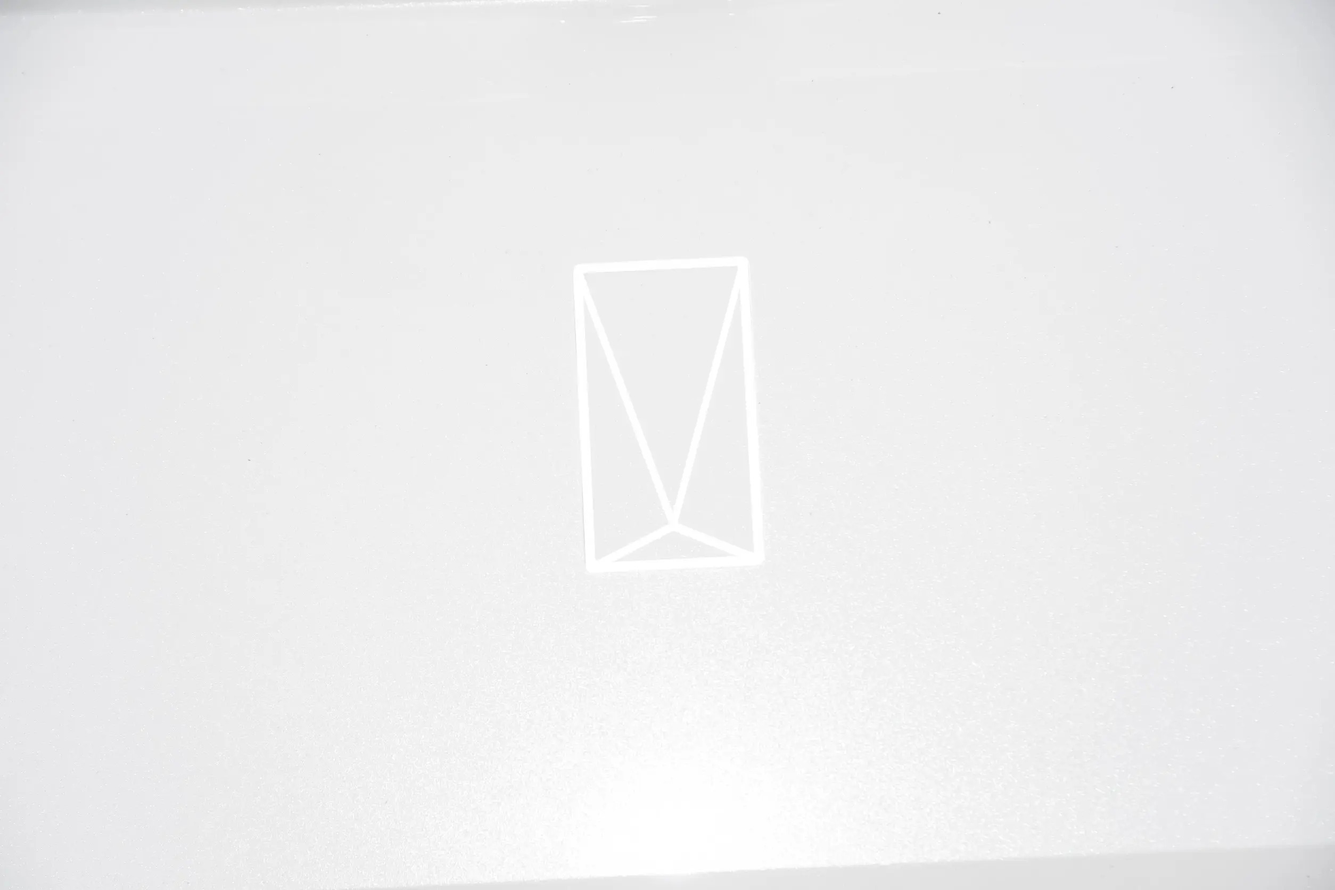AVATR: (573, 256, 764, 573)
